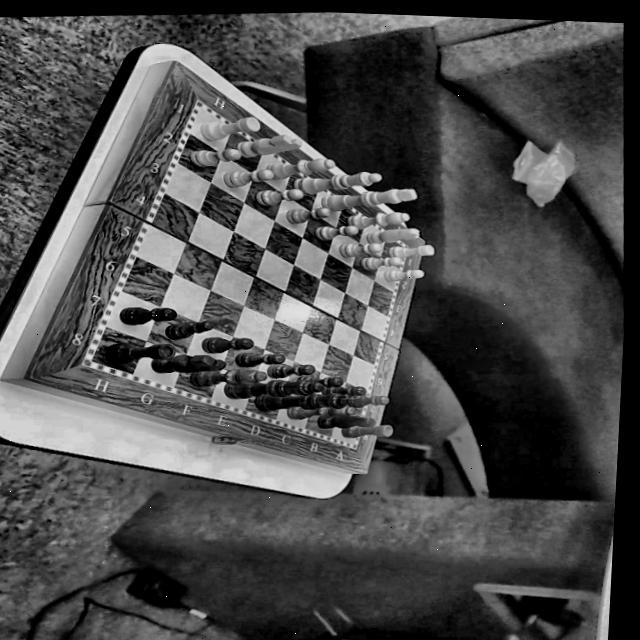chessboard: (94, 108, 404, 445)
